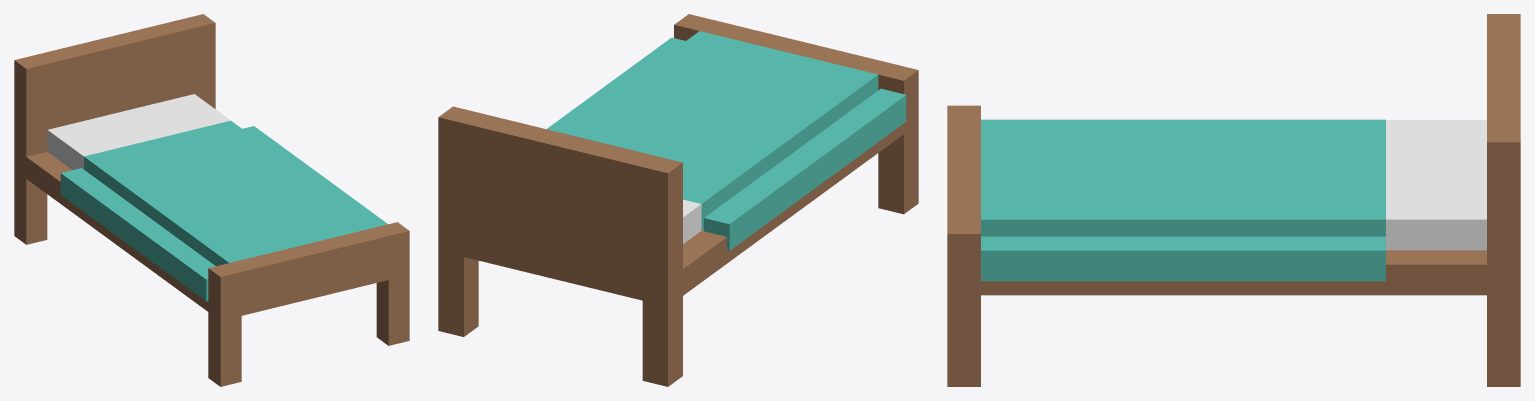
The model's file is single-bed.fbx.
The picture shows the model from 3 angles, left to right: view 1: azimuth 30°, elevation 25°; view 2: azimuth 150°, elevation 25°; view 3: azimuth 270°, elevation 25°; orthographic projection. The views are drawn at different scales.
Visible parts, largest first — view 1: Modern_Single_Bed; view 2: Modern_Single_Bed; view 3: Modern_Single_Bed.
Boxes of the visible parts, bbox=[...] form: Modern_Single_Bed: bbox=[14, 14, 409, 386]; Modern_Single_Bed: bbox=[438, 14, 918, 386]; Modern_Single_Bed: bbox=[947, 14, 1520, 386].
Size of the model in its own units: 138 by 120 by 255.
